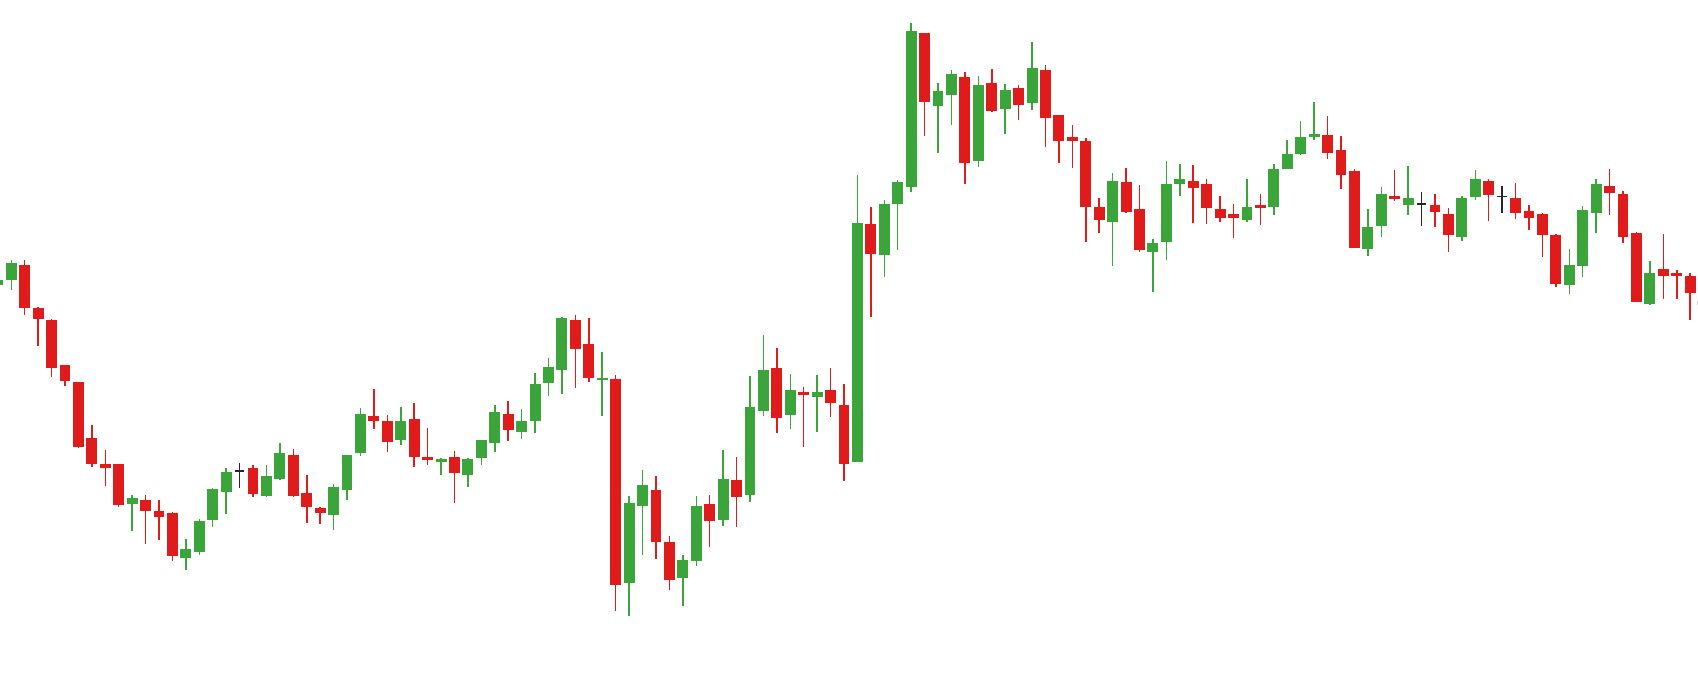buy: (444, 387, 649, 618), (1442, 202, 1591, 301)
sell: (1154, 99, 1350, 210)
